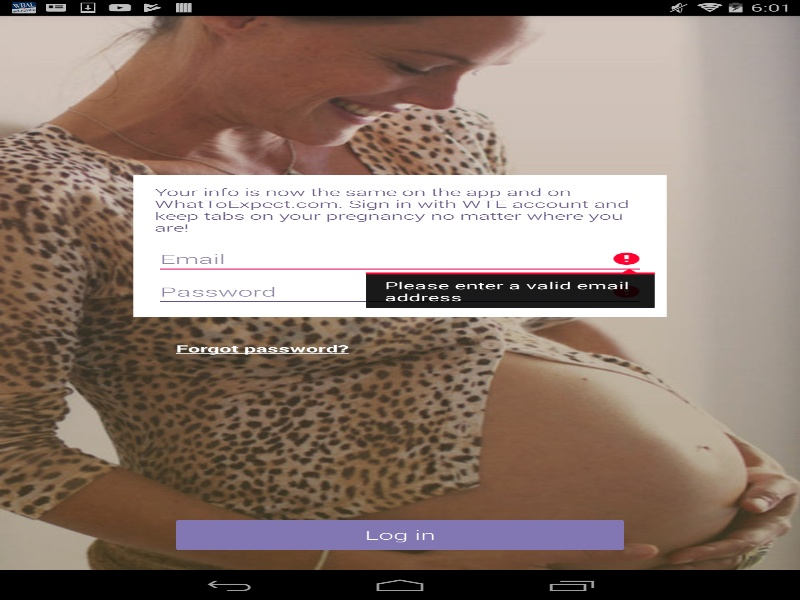Button: (176, 520, 624, 550)
Input: (154, 244, 645, 274), (154, 277, 645, 306)
